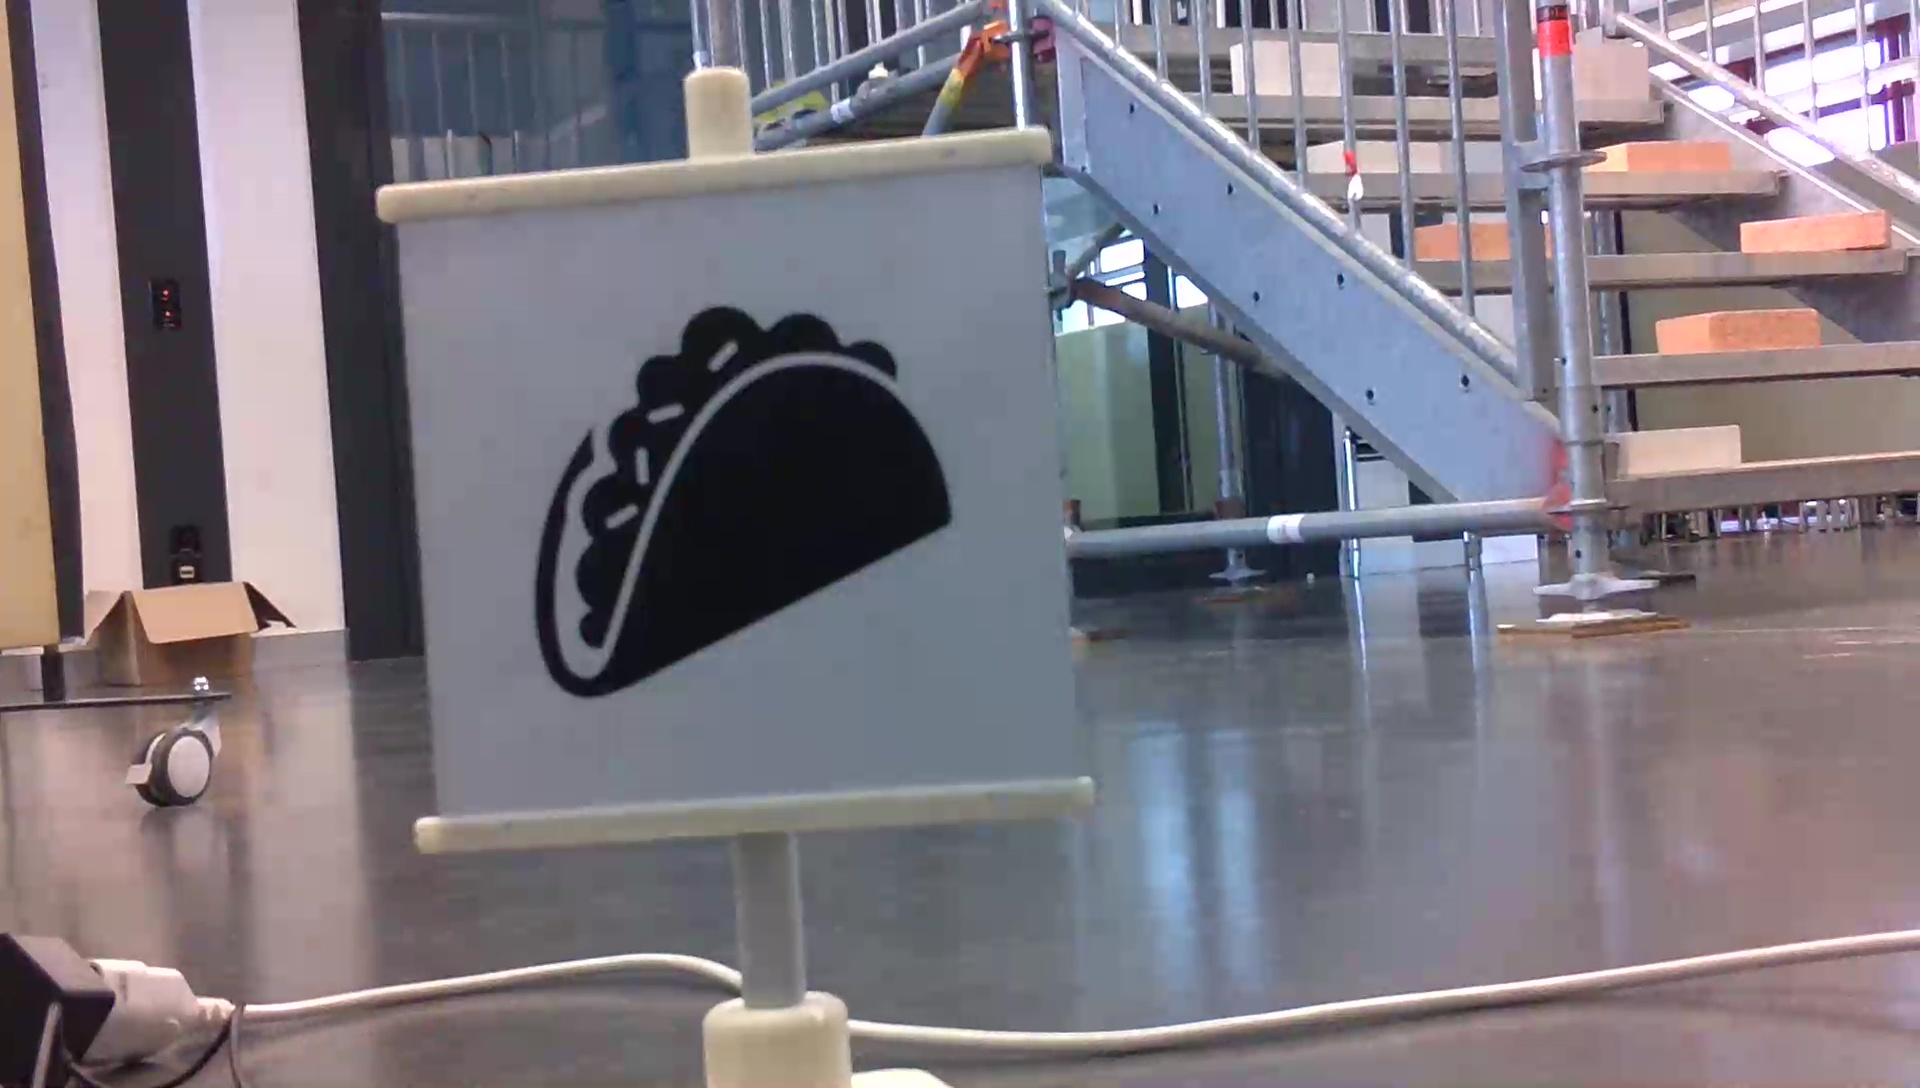brick: (1655, 309, 1815, 351), (1741, 212, 1886, 248), (1619, 426, 1735, 469), (1572, 44, 1644, 100), (1605, 142, 1727, 175)
taco: (514, 298, 972, 706)
